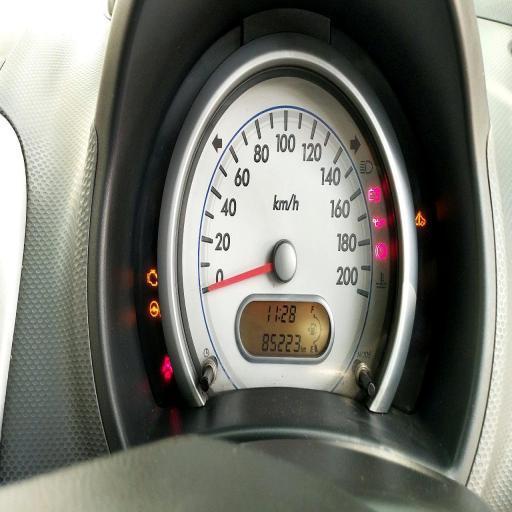brake_system_fault: (376, 241, 388, 261)
check_engine: (146, 267, 158, 287)
oil: (372, 213, 386, 229)
vehicle_charging: (368, 186, 382, 204)
